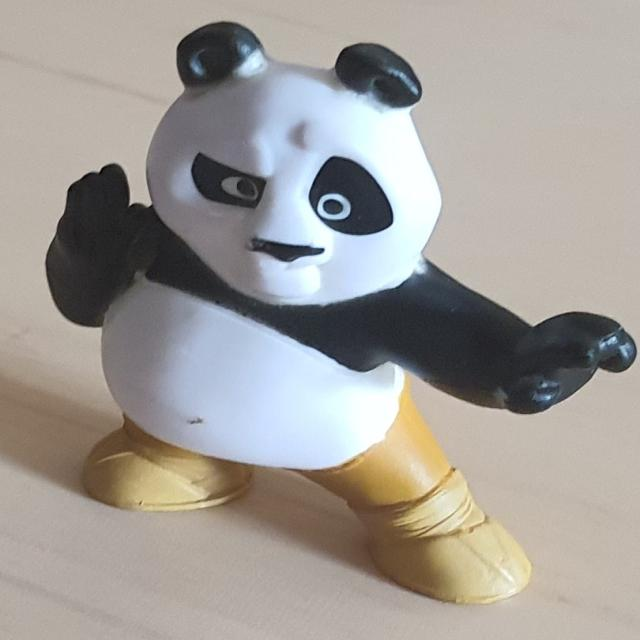Panda: (44, 20, 638, 606)
